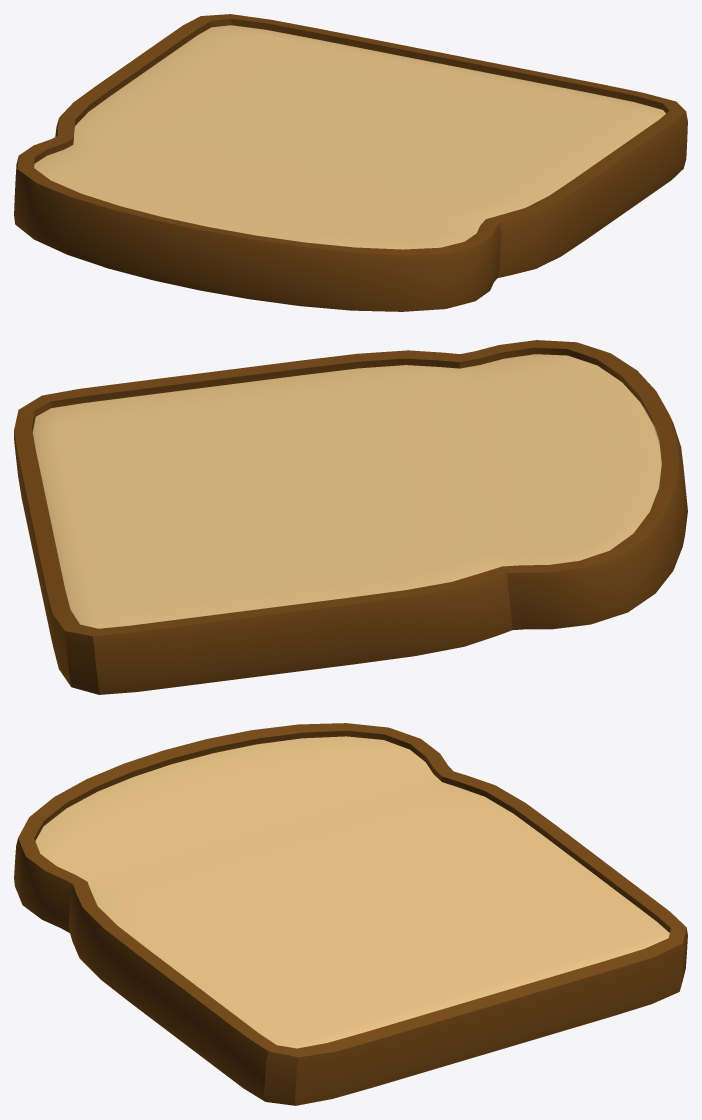
The model's file is Pane 1 fetta .fbx.
3 views of the same model, one above another, from view 1: azimuth 30°, elevation 25°; view 2: azimuth 150°, elevation 25°; view 3: azimuth 270°, elevation 25° (orthographic). The views are drawn at different scales.
Visible parts, largest first — view 1: Slice 1.002; view 2: Slice 1.002; view 3: Slice 1.002.
Boxes of the visible parts, box(x1,y1,x2,y2) form: Slice 1.002: box(14, 14, 687, 311); Slice 1.002: box(14, 340, 687, 694); Slice 1.002: box(14, 723, 687, 1105).
Size of the model in its own units: 41.98 by 7.04 by 41.36.
